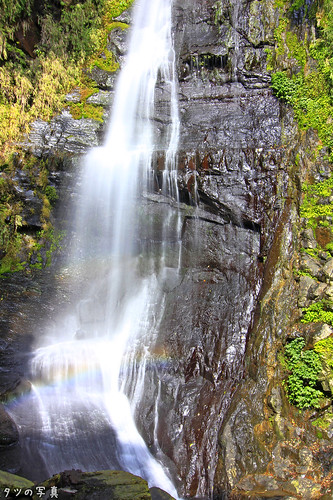wufengciWaterfall: (38, 3, 249, 456)
